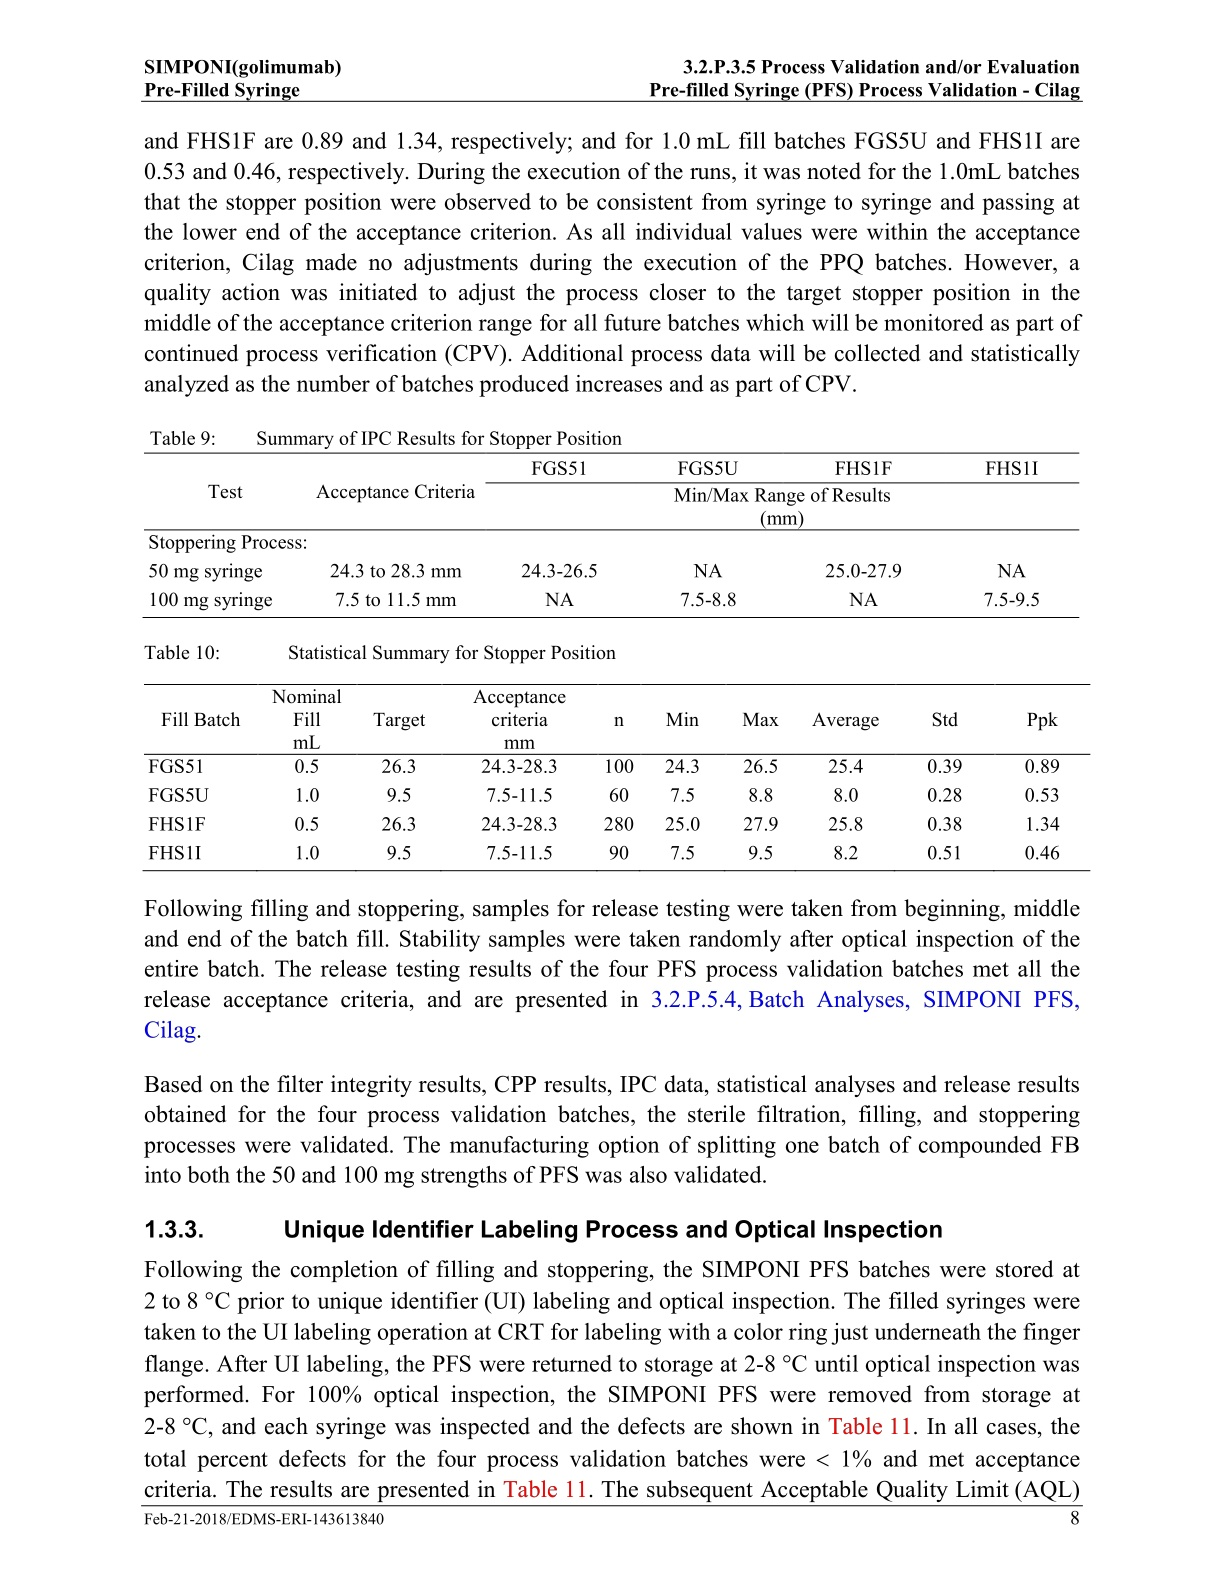partial_lined: (141, 681, 1089, 872)
partial_lined_merged_cells: (144, 451, 1083, 618)
